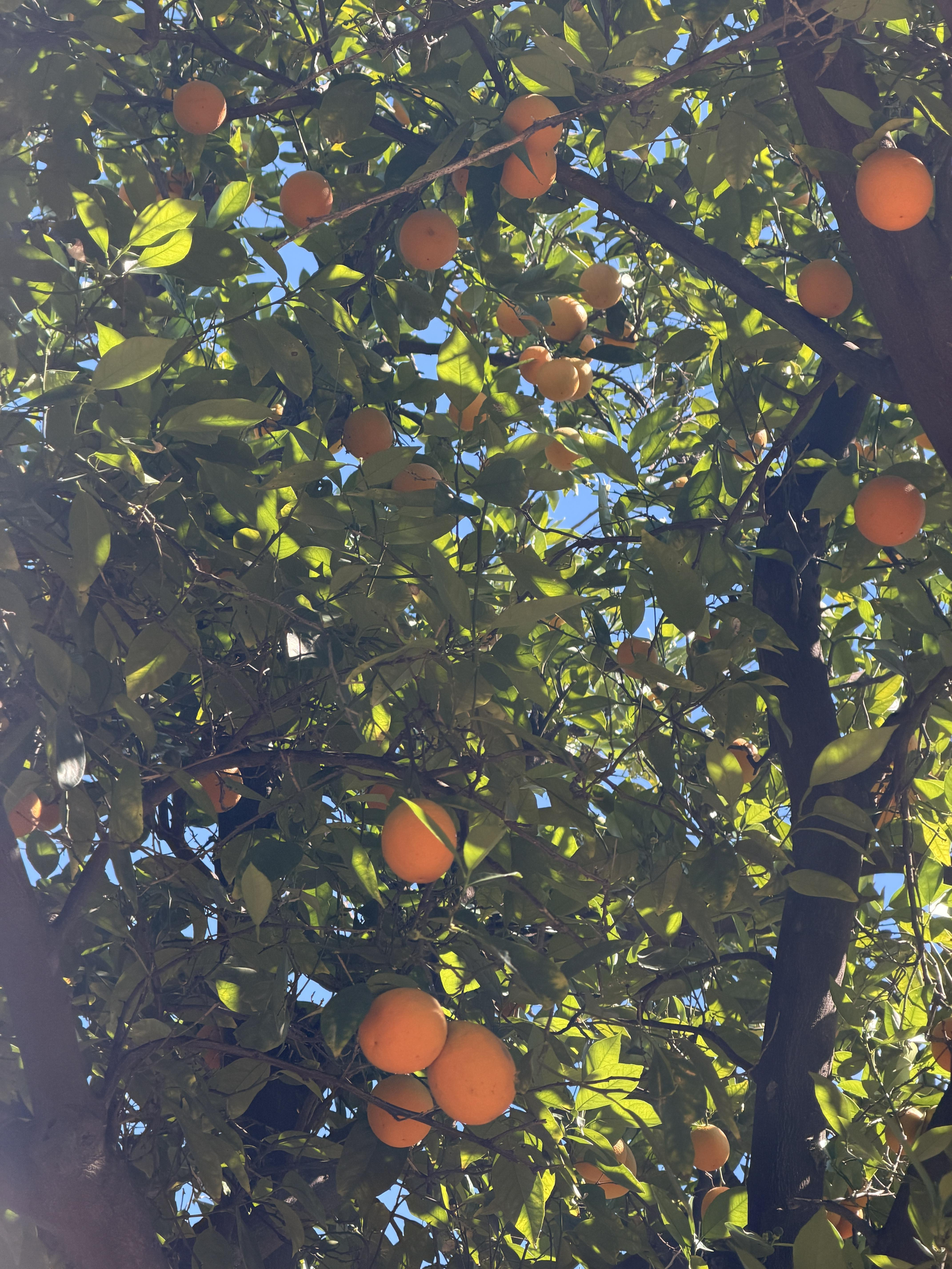orange: (425, 1021, 515, 1124), (358, 988, 447, 1074), (856, 148, 933, 231), (381, 798, 456, 883), (854, 475, 925, 547), (368, 1074, 436, 1148), (503, 94, 563, 155), (400, 210, 458, 270), (797, 259, 853, 318), (585, 1142, 637, 1199), (280, 171, 332, 228), (173, 80, 226, 135), (501, 150, 556, 199), (342, 408, 393, 459), (573, 1138, 626, 1182), (198, 766, 244, 813), (579, 263, 623, 309), (544, 296, 587, 342), (691, 1125, 730, 1172), (885, 1107, 923, 1155), (536, 359, 579, 401), (617, 636, 659, 679), (497, 298, 541, 337), (545, 427, 583, 471), (727, 737, 762, 784), (448, 393, 491, 431), (391, 462, 442, 492), (9, 791, 42, 837), (560, 356, 593, 401), (727, 429, 767, 462), (519, 346, 552, 385), (931, 1017, 952, 1072), (840, 1178, 871, 1211), (701, 1186, 730, 1220), (603, 321, 638, 349), (835, 1209, 863, 1239), (366, 783, 395, 810), (37, 802, 61, 830), (579, 334, 596, 364), (827, 1211, 841, 1227)
